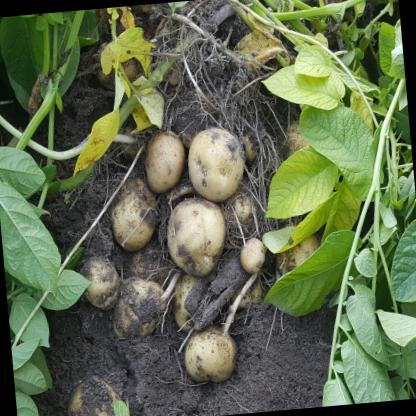potato: (163, 193, 231, 280), (184, 124, 248, 204), (107, 174, 162, 254), (108, 274, 170, 344), (181, 322, 240, 386), (141, 127, 188, 196), (80, 254, 122, 312)
